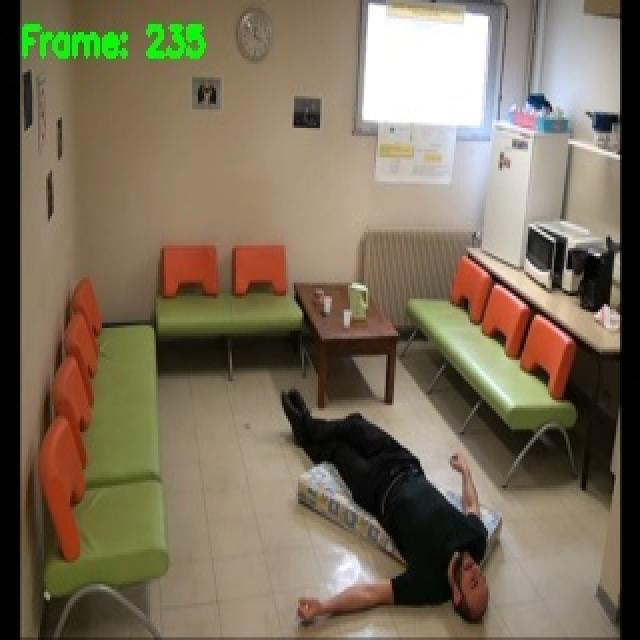fall: (276, 382, 493, 622)
